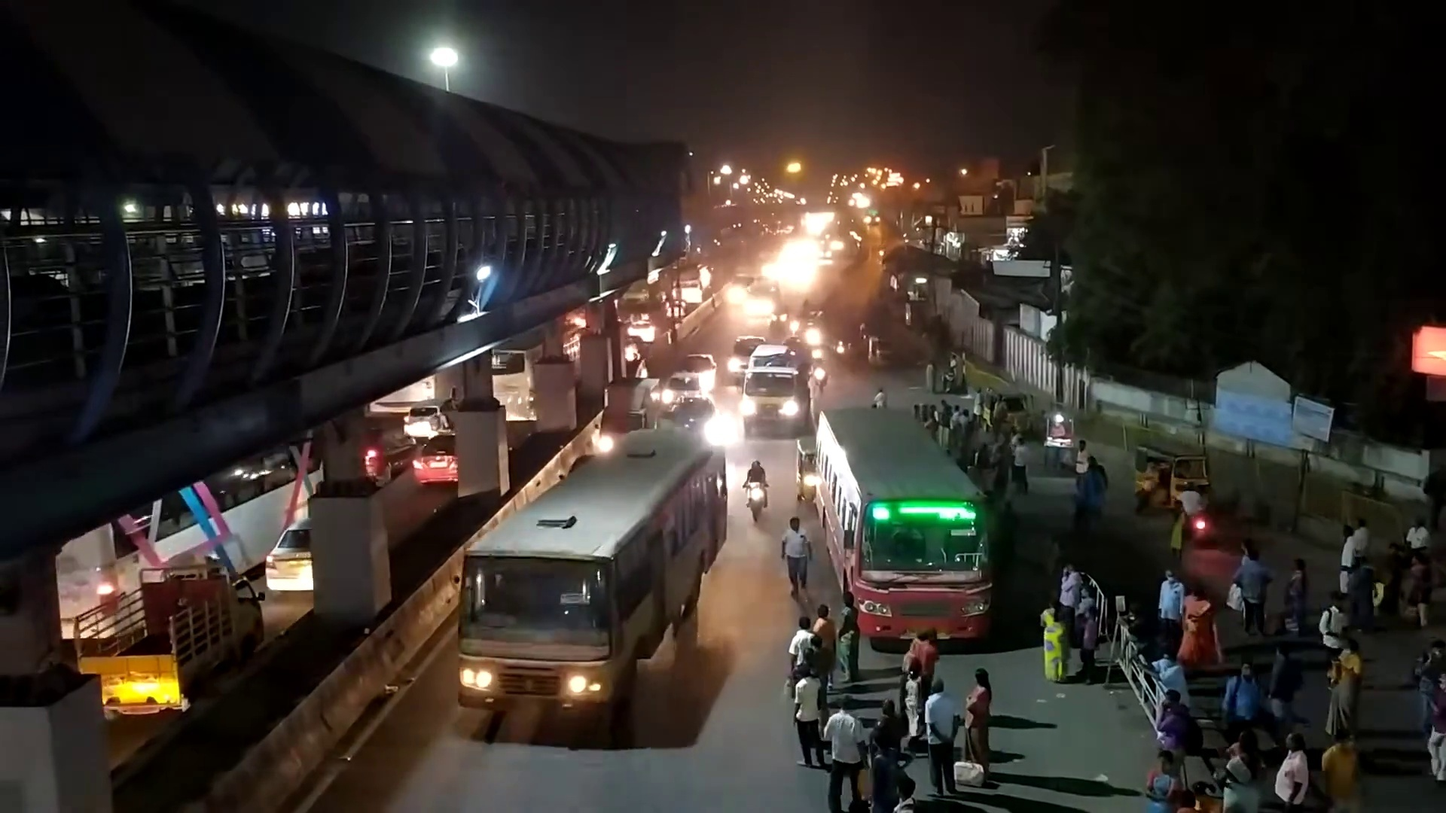driver_helmet: (1179, 482, 1203, 516), (743, 460, 769, 490)
motorcycle: (742, 459, 769, 525), (1177, 481, 1209, 534), (811, 357, 829, 392)
